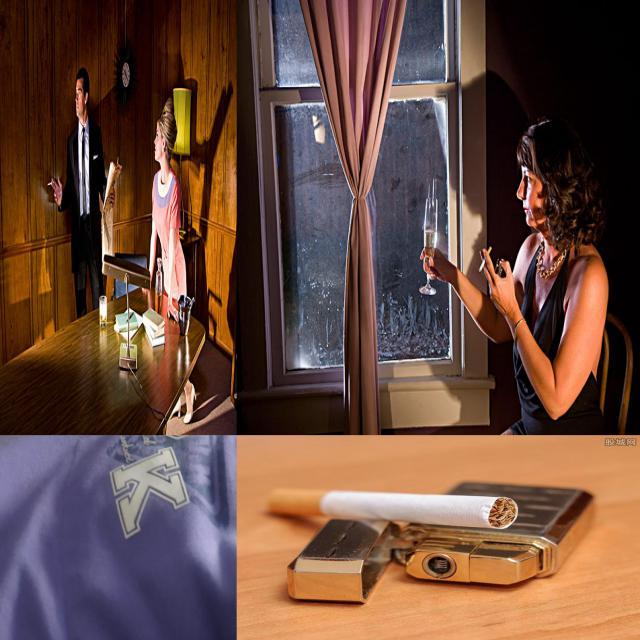cigarette: (268, 488, 520, 530), (478, 246, 492, 274), (47, 181, 54, 186)
